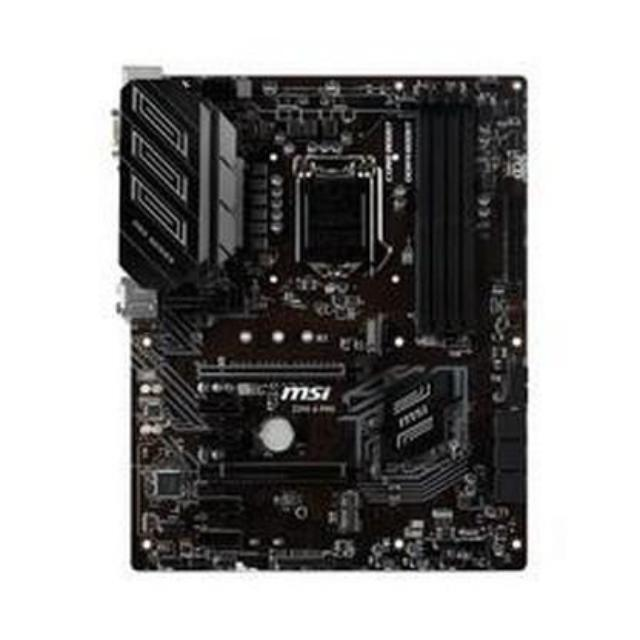Mainboard: (101, 54, 538, 578)
